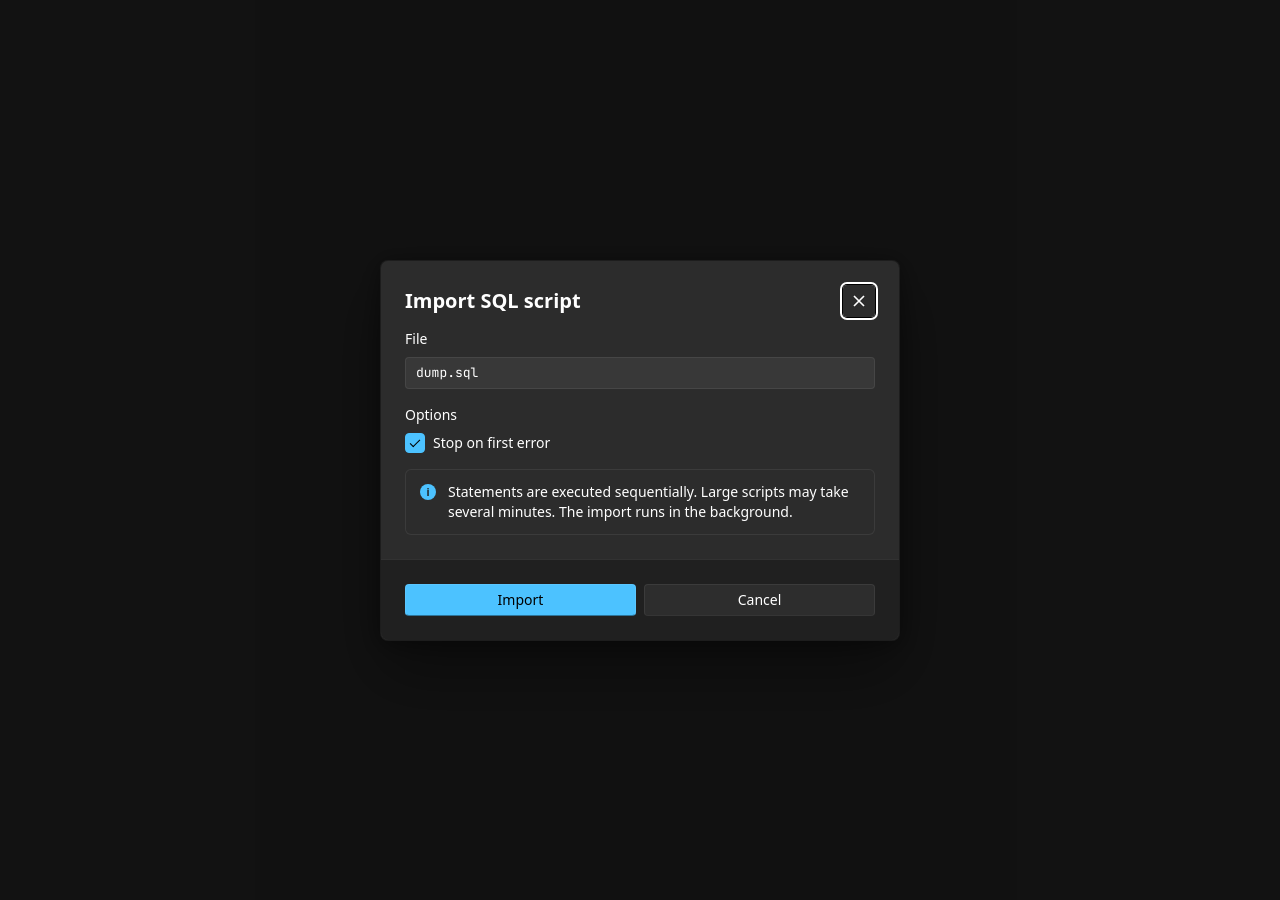
SqlImportDialog › shows completed with errors when import completes but has errors
Click the button with test id "import-submit-button" at (520, 600), box [405,584,636,616]
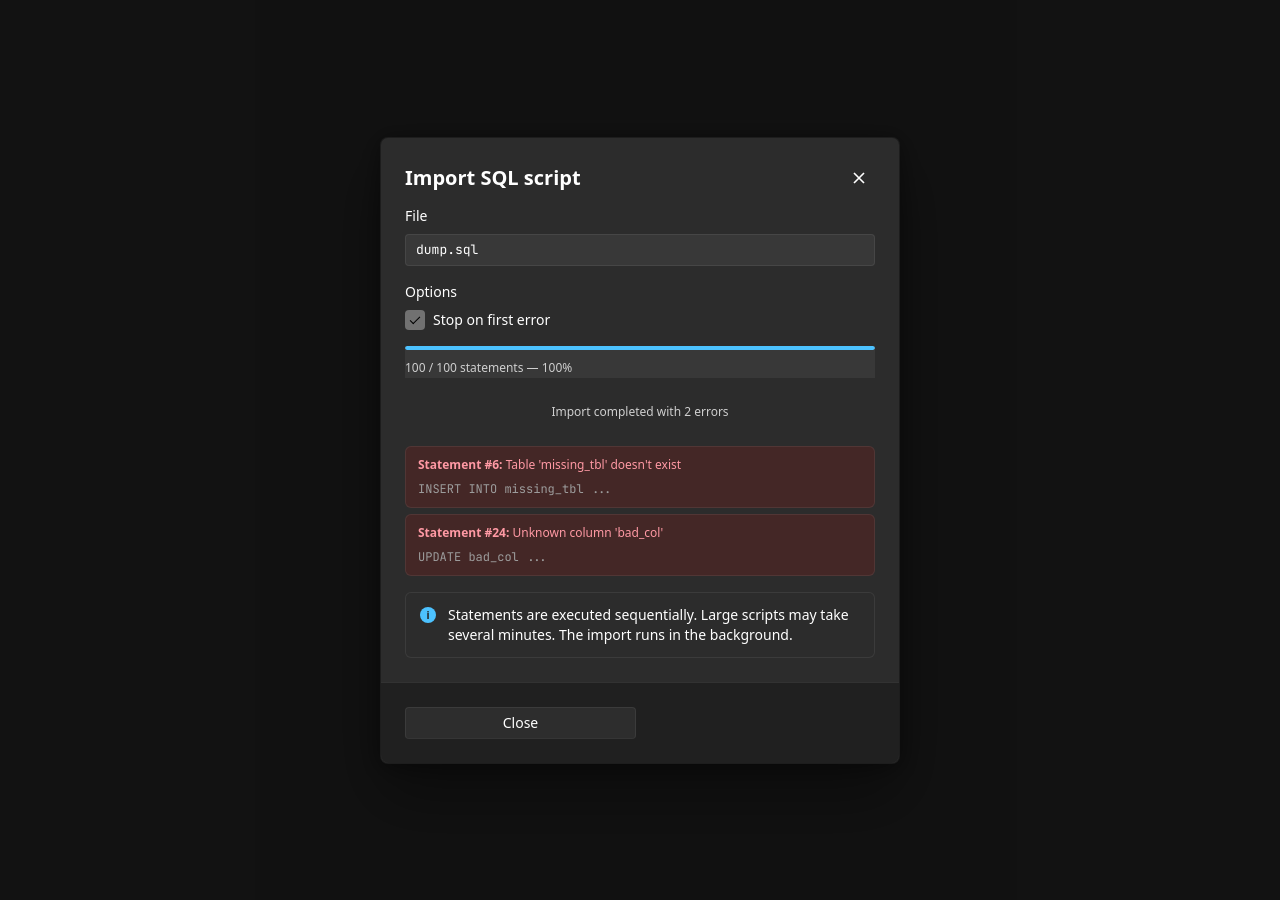
Now the text with test id "import-status" reads "Import completed with 2 errors", box [551,402,729,420]
Now the element with test id "import-error-list" is shown, box [405,446,875,576]
Now the element with test id "import-error-0" shows "Table 'missing_tbl'", box [506,456,681,472]
